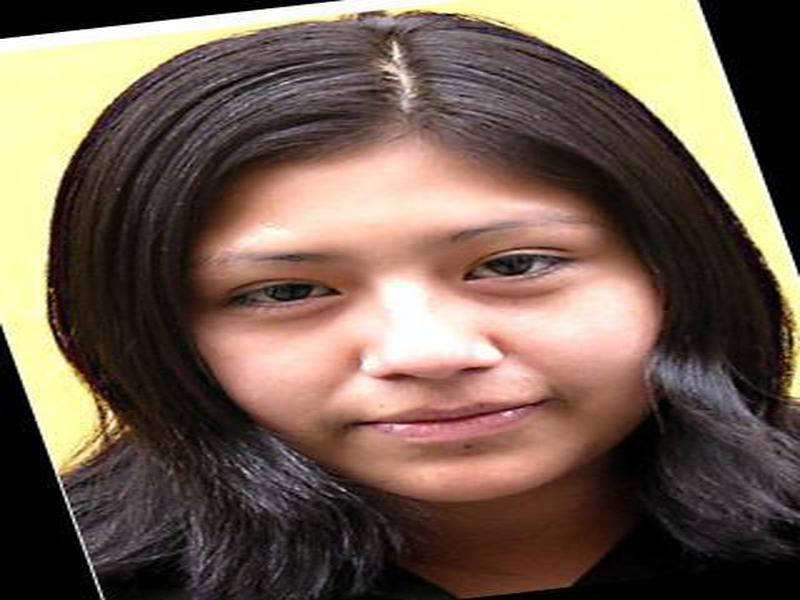without_mask: (183, 167, 653, 499)
